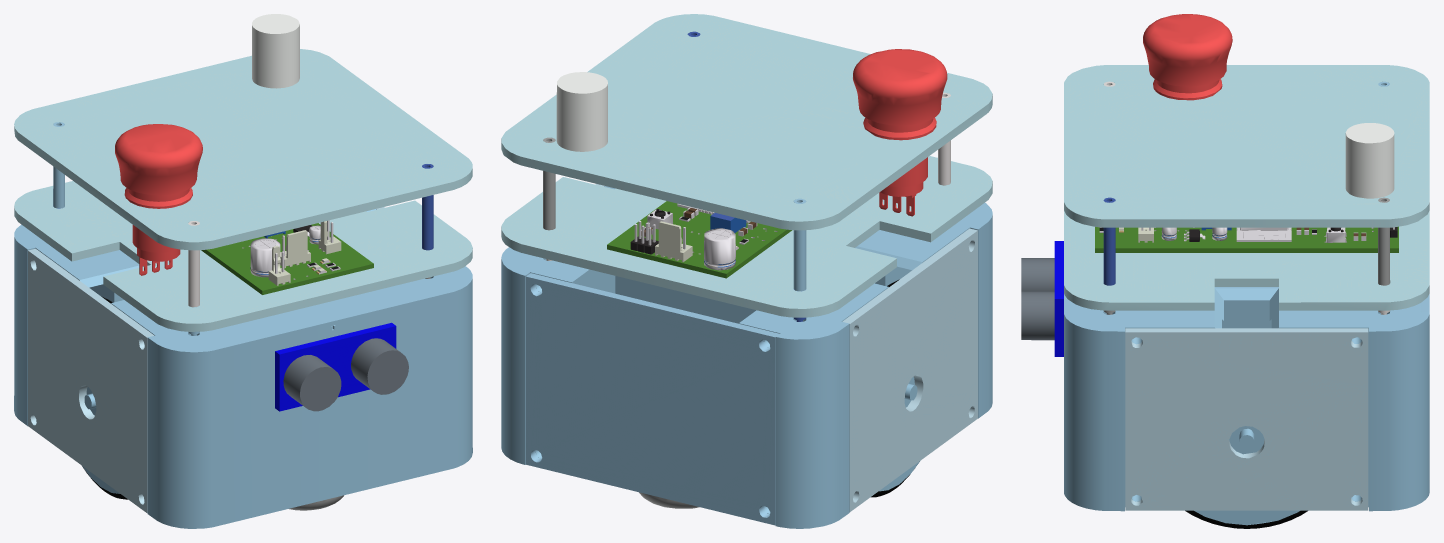
Rendered from Pami_v2_compress.glb.
3 views of the same model, side by side, from view 1: azimuth 30°, elevation 25°; view 2: azimuth 150°, elevation 25°; view 3: azimuth 270°, elevation 25° (orthographic). The views are drawn at different scales.
Parts seen in each view (by area): view 1: Pilier spaceur E1 BL, Ultrasonic sensor; view 2: Ultrasonic sensor, Pilier spaceur E1 BL; view 3: Pilier spaceur E1 BL, Ultrasonic sensor.
Part boxes in pixels (x1,y1,x2,y2): Pilier spaceur E1 BL: (14,14,472,528); Ultrasonic sensor: (14,49,472,411); Ultrasonic sensor: (501,14,992,525); Pilier spaceur E1 BL: (501,31,992,528); Pilier spaceur E1 BL: (1064,14,1429,528); Ultrasonic sensor: (1021,65,1429,356).
Size of the model in its own units: 0.00012 by 0.000136 by 0.000134.
Materials: 2 (2 with a texture image).
